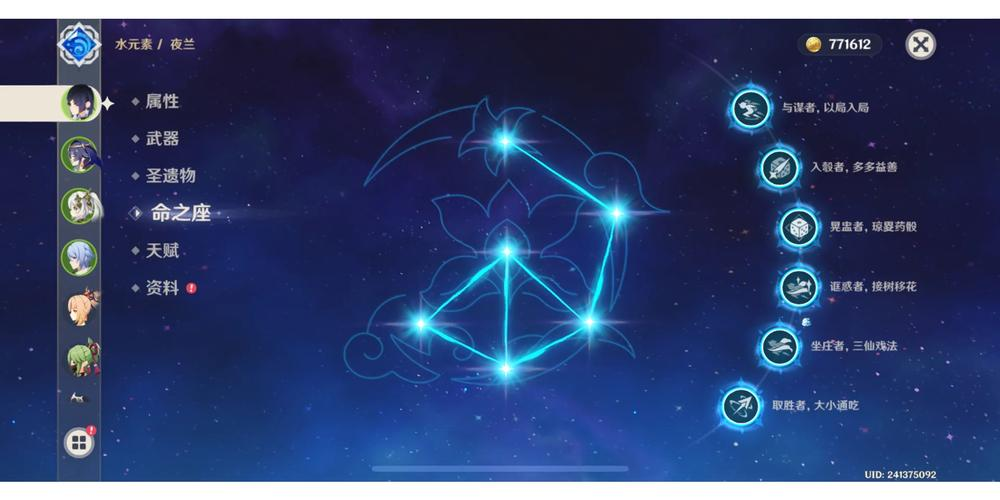夜兰: (53, 84, 98, 126)
